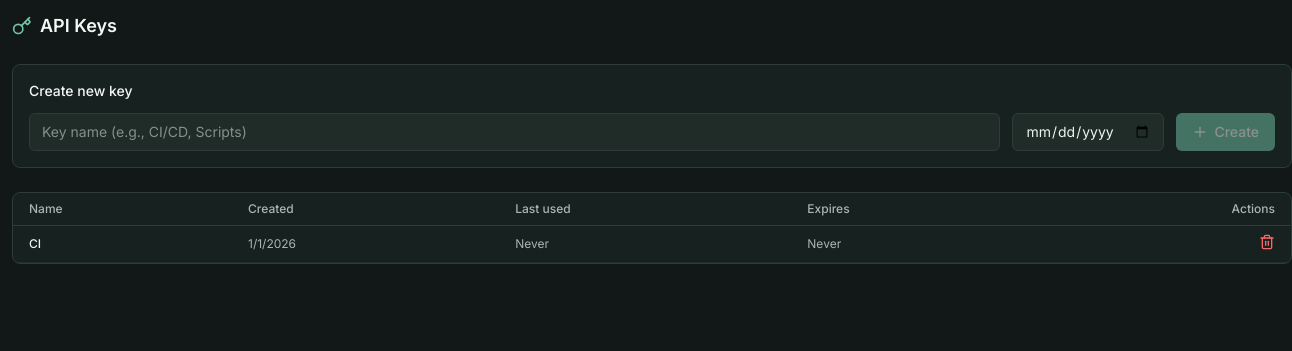
Test: ApiKeyManager cookie auth › keeps a key listed and displays deletion failures
The image size is (1292, 351).
Expected: the text "CI" is shown, [13, 226, 232, 262]
Click the button named "Delete API key CI": x=1267, y=242 [1259, 234, 1275, 250]
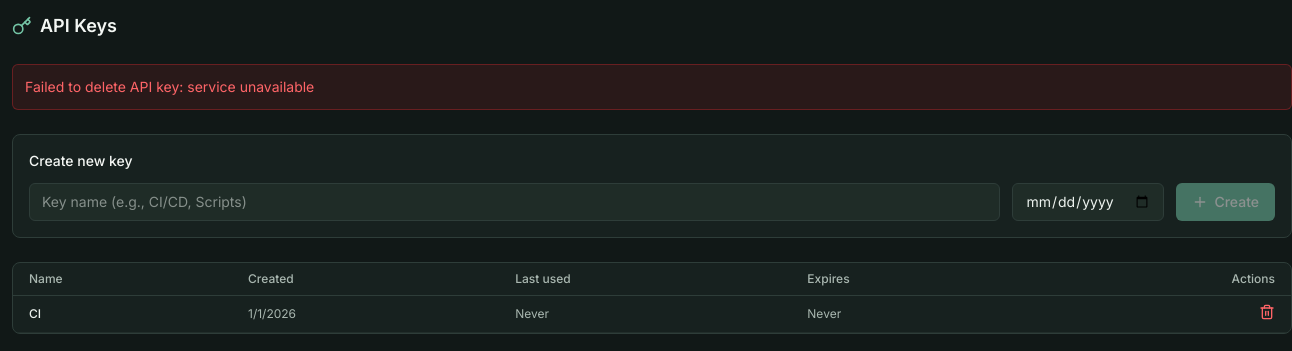
Expected: the text "CI" is shown, [13, 296, 232, 332]
Expected: the message shows "Failed to delete", [25, 78, 314, 95]
